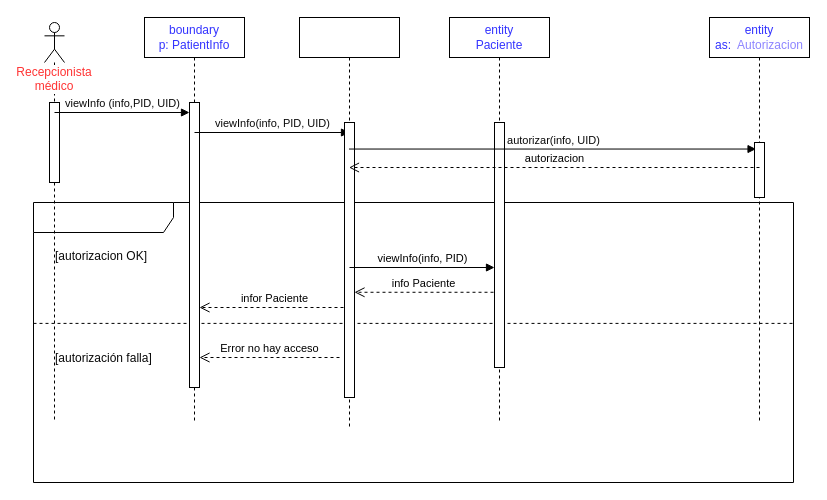
Some shapes in this 827 by 500 pixel diagram are drawn without their labels. Each missing label, with the box of its shape:
alt: (32, 202, 794, 482)
Paciente Controlador: (298, 16, 400, 428)
